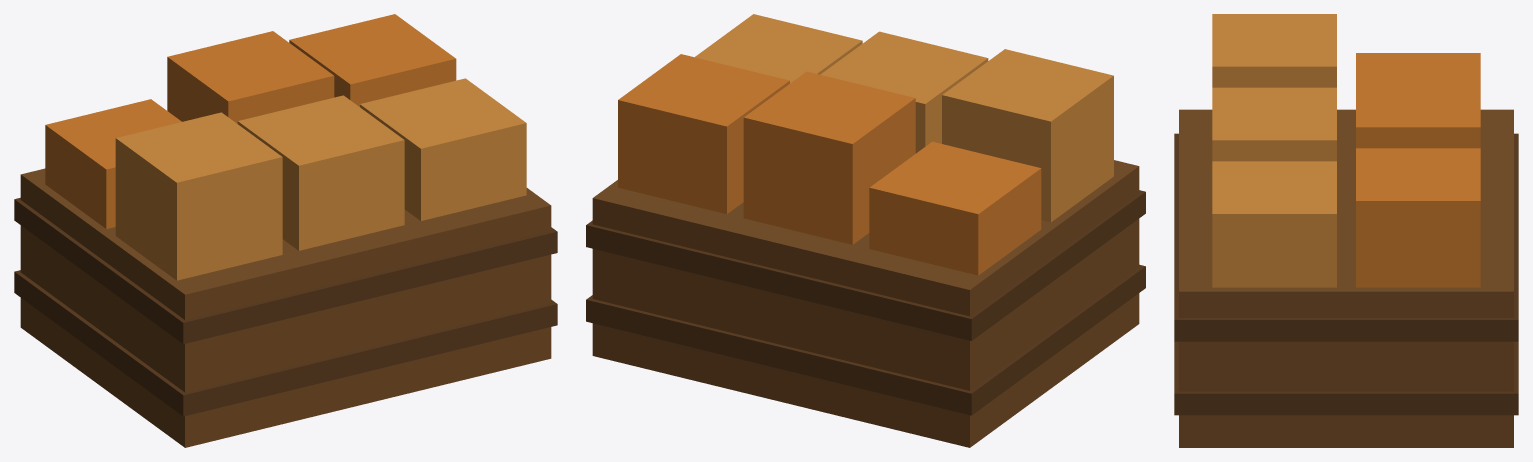
The model's file is cp-crate-orange.glb.
3 renders of one model, left to right at view 1: azimuth 30°, elevation 25°; view 2: azimuth 150°, elevation 25°; view 3: azimuth 270°, elevation 25°, orthographic. The views are drawn at different scales.
Parts seen in each view (by area): view 1: box-prop; view 2: box-prop; view 3: box-prop.
Part boxes in pixels (x1,y1,x2,y2): box-prop: (14,14,557,447); box-prop: (586,14,1145,447); box-prop: (1174,14,1518,447).
Bounding box in the file's own units: 0.92 × 0.59 × 0.72.
